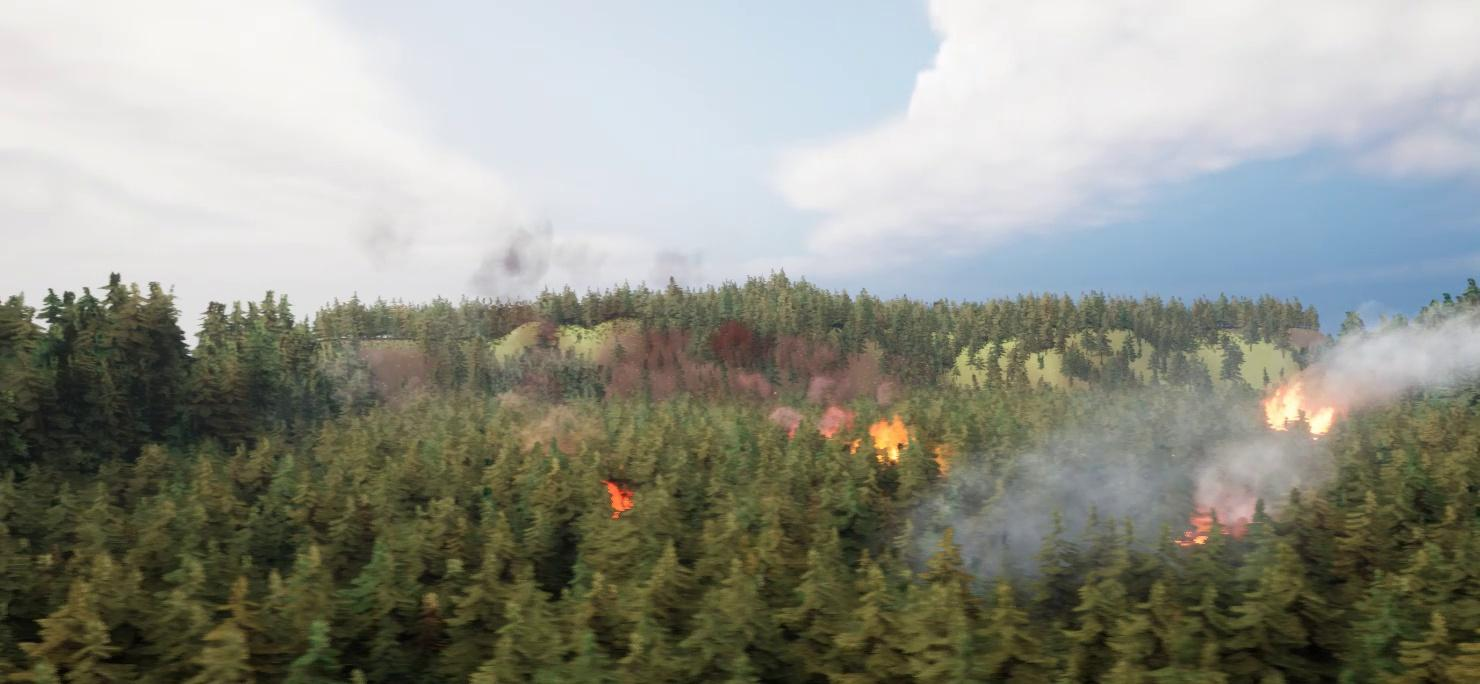fire: (1264, 381, 1334, 432), (1175, 509, 1254, 547), (857, 414, 923, 458), (608, 478, 641, 517)
smoke: (913, 314, 1479, 581), (354, 204, 900, 417)
